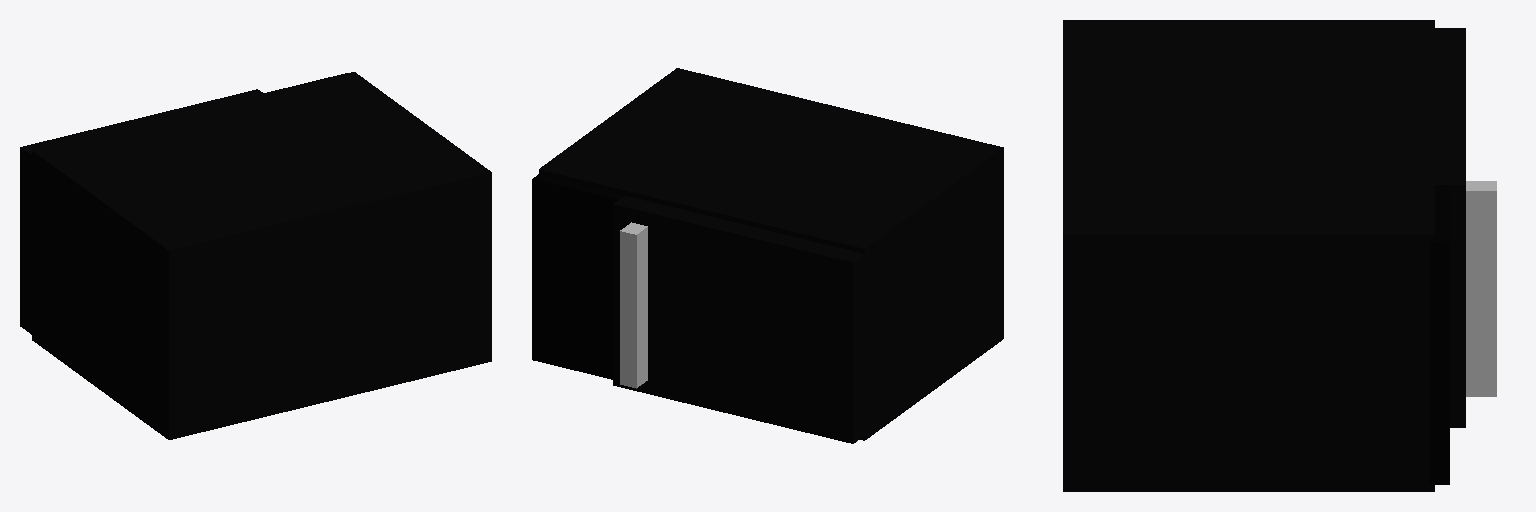
The robot description file, URDF, robot "samsung_microwave":
<?xml version="1.0"?>
<robot name="samsung_microwave">
  <!-- Chassis / cavity body. Frame: x=right, y=forward, z=up. Origin at center of body. -->
  <link name="base_link">
    <inertial>
      <origin xyz="0 0 0" rpy="0 0 0"/>
      <mass value="12.0"/>
      <inertia ixx="0.2052" ixy="0.0" ixz="0.0" iyy="0.3157" iyz="0.0" izz="0.3697"/>
    </inertial>
    <visual>
      <origin xyz="0 0 0" rpy="0 0 0"/>
      <geometry>
        <box size="0.489 0.36 0.275"/>
      </geometry>
      <material name="black">
        <color rgba="0.05 0.05 0.05 1.0"/>
      </material>
    </visual>
    <collision>
      <origin xyz="0 0 0" rpy="0 0 0"/>
      <geometry>
        <box size="0.489 0.36 0.275"/>
      </geometry>
    </collision>
    <!-- right-side control panel strip, part of body -->
    <visual>
      <origin xyz="0.18 0.185 0" rpy="0 0 0"/>
      <geometry>
        <box size="0.13 0.02 0.26"/>
      </geometry>
      <material name="black_glass">
        <color rgba="0.03 0.03 0.03 1.0"/>
      </material>
    </visual>
    <collision>
      <origin xyz="0.18 0.185 0" rpy="0 0 0"/>
      <geometry>
        <box size="0.13 0.02 0.26"/>
      </geometry>
    </collision>
  </link>

  <!-- Door. Link frame at hinge on left front edge. -->
  <link name="door">
    <inertial>
      <origin xyz="0.18 0.015 0" rpy="0 0 0"/>
      <mass value="2.0"/>
      <inertia ixx="0.0114" ixy="0.0" ixz="0.0" iyy="0.0329" iyz="0.0" izz="0.0217"/>
    </inertial>
    <!-- door glass panel -->
    <visual>
      <origin xyz="0.18 0.015 0" rpy="0 0 0"/>
      <geometry>
        <box size="0.36 0.03 0.26"/>
      </geometry>
      <material name="door_black">
        <color rgba="0.05 0.05 0.05 1.0"/>
      </material>
    </visual>
    <collision>
      <origin xyz="0.18 0.015 0" rpy="0 0 0"/>
      <geometry>
        <box size="0.36 0.03 0.26"/>
      </geometry>
    </collision>
    <!-- vertical silver handle on right edge of door -->
    <visual>
      <origin xyz="0.32 0.045 0" rpy="0 0 0"/>
      <geometry>
        <box size="0.025 0.03 0.22"/>
      </geometry>
      <material name="silver">
        <color rgba="0.75 0.75 0.75 1.0"/>
      </material>
    </visual>
    <collision>
      <origin xyz="0.32 0.045 0" rpy="0 0 0"/>
      <geometry>
        <box size="0.025 0.03 0.22"/>
      </geometry>
    </collision>
  </link>

  <joint name="door_hinge" type="revolute">
    <parent link="base_link"/>
    <child link="door"/>
    <origin xyz="-0.2445 0.18 0" rpy="0 0 0"/>
    <axis xyz="0 0 1"/>
    <limit lower="0" upper="1.745" effort="15" velocity="1.5"/>
    <dynamics damping="0.2" friction="0.1"/>
  </joint>
</robot>

--- Render facts (derived) ---
3 views of the same robot in one strip: view 1: azimuth 30°, elevation 25°; view 2: azimuth 150°, elevation 25°; view 3: azimuth 270°, elevation 25° (orthographic).
Robot: samsung_microwave — 2 links, 1 joints (1 revolute); root link base_link; default pose: all joints at 0.
Visible links, largest first — view 1: base_link, door; view 2: base_link, door; view 3: base_link, door.
Boxes of the visible links, left/top/right/bottom form: base_link: left=32, top=72, right=491, bottom=439; door: left=20, top=89, right=262, bottom=334; base_link: left=532, top=68, right=1003, bottom=440; door: left=613, top=196, right=864, bottom=443; base_link: left=1063, top=20, right=1449, bottom=491; door: left=1435, top=28, right=1496, bottom=427.
Bounding box of the posed robot: 0.4895 × 0.42 × 0.275 m (x, y, z).
Geometry: primitives only (box / cylinder / sphere), no mesh files.
